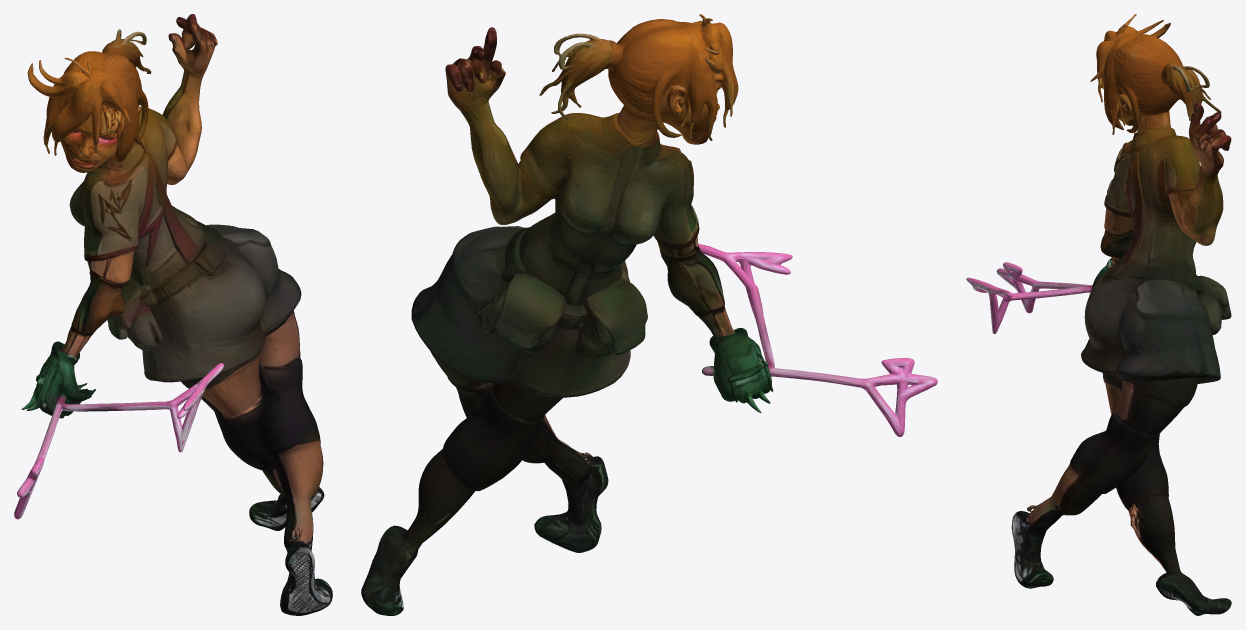
The model's file is keven-hart.glb.
The picture shows the model from 3 angles, left to right: view 1: azimuth 30°, elevation 25°; view 2: azimuth 150°, elevation 25°; view 3: azimuth 270°, elevation 25°; orthographic projection. The views are drawn at different scales.
Parts seen in each view (by area): view 1: KevenHart; view 2: KevenHart; view 3: KevenHart.
Boxes of the visible parts, x1,y1,x2,y2 form: KevenHart: [14, 14, 332, 615]; KevenHart: [361, 14, 937, 615]; KevenHart: [966, 14, 1231, 615].
Bounding box in the file's own units: 0.7298 × 0.9784 × 0.4756.
Materials: 1 (1 with a texture image).
